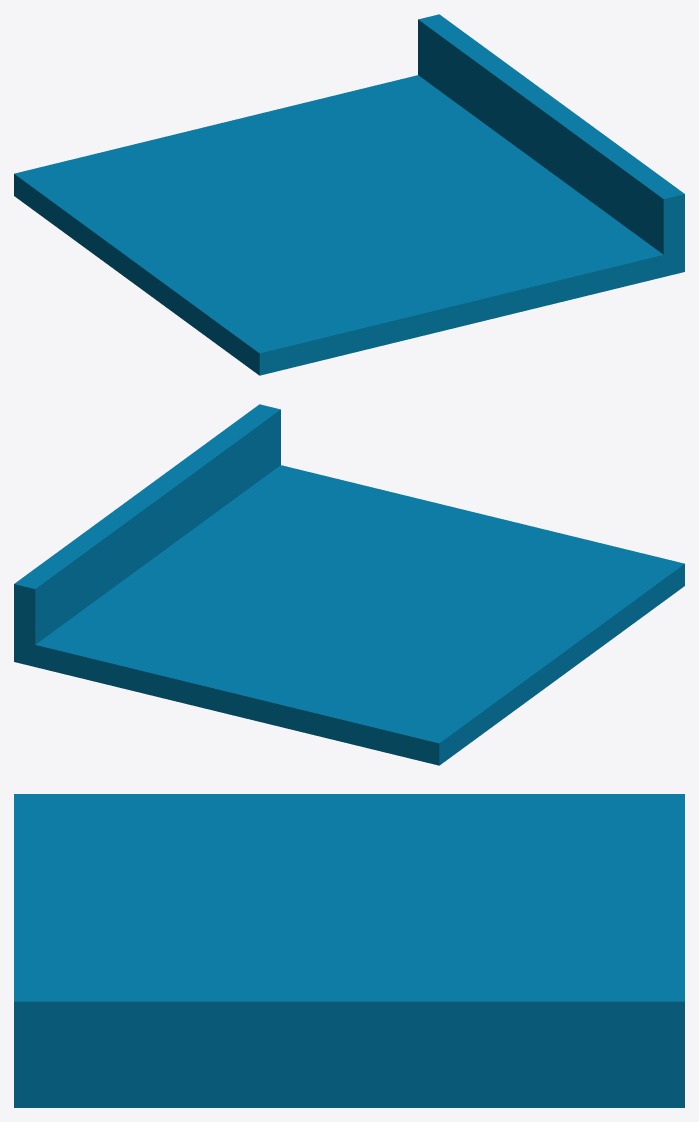
The model's file is BlueRoof_1Edge.glb.
The picture shows the model from 3 angles, top to bottom: view 1: azimuth 30°, elevation 25°; view 2: azimuth 150°, elevation 25°; view 3: azimuth 270°, elevation 25°; orthographic projection. The views are drawn at different scales.
Visible parts, largest first — view 1: roof_flat_1Edge_blue; view 2: roof_flat_1Edge_blue; view 3: roof_flat_1Edge_blue.
Boxes of the visible parts, bbox=[...] form: roof_flat_1Edge_blue: bbox=[14, 14, 684, 375]; roof_flat_1Edge_blue: bbox=[14, 404, 684, 765]; roof_flat_1Edge_blue: bbox=[14, 794, 684, 1107].
Size of what is drawn, in the model's own units: 4 by 0.7 by 4.
Materials: 1 (1 with a texture image).
